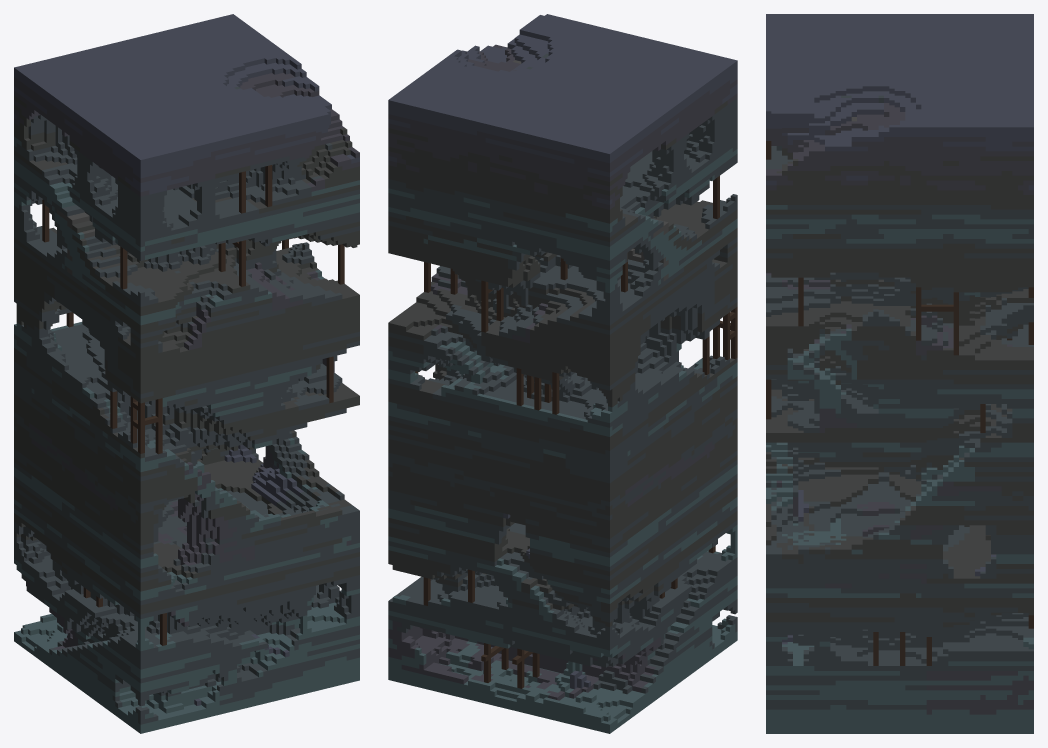
Rendered from map_cdg_sculpted_v2-0.obj.
3 views of the same model, side by side, from view 1: azimuth 30°, elevation 25°; view 2: azimuth 150°, elevation 25°; view 3: azimuth 270°, elevation 25° (orthographic). The views are drawn at different scales.
Visible parts, largest first — view 1: map_cdg_sculpted_v2-0; view 2: map_cdg_sculpted_v2-0; view 3: map_cdg_sculpted_v2-0.
Part boxes in pixels (x1=…): map_cdg_sculpted_v2-0: x1=14, y1=14, x2=359, y2=733; map_cdg_sculpted_v2-0: x1=388, y1=14, x2=737, y2=733; map_cdg_sculpted_v2-0: x1=766, y1=14, x2=1033, y2=733.
Size of the model in its own units: 50 by 125 by 50.
1 material, 1 textured.
